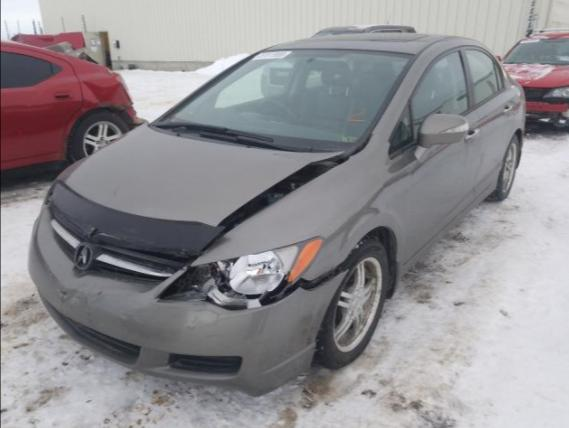Broken part: (27, 196, 349, 399), (194, 151, 350, 256), (81, 225, 200, 265)
Cracked: (154, 237, 324, 312)
Dent: (337, 207, 378, 254), (58, 286, 89, 314)
Scratch: (84, 278, 95, 319), (84, 295, 89, 310), (96, 289, 102, 296), (59, 290, 66, 296), (60, 295, 64, 304)
